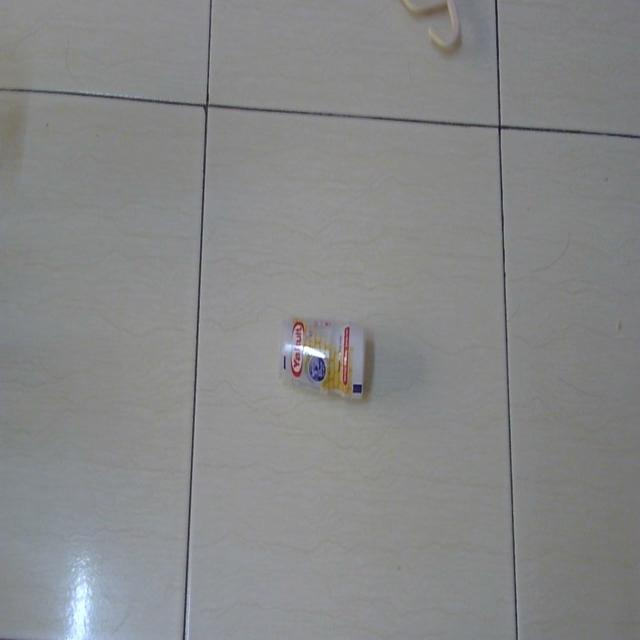plastic_laydown_0rotation: (278, 311, 370, 402)
